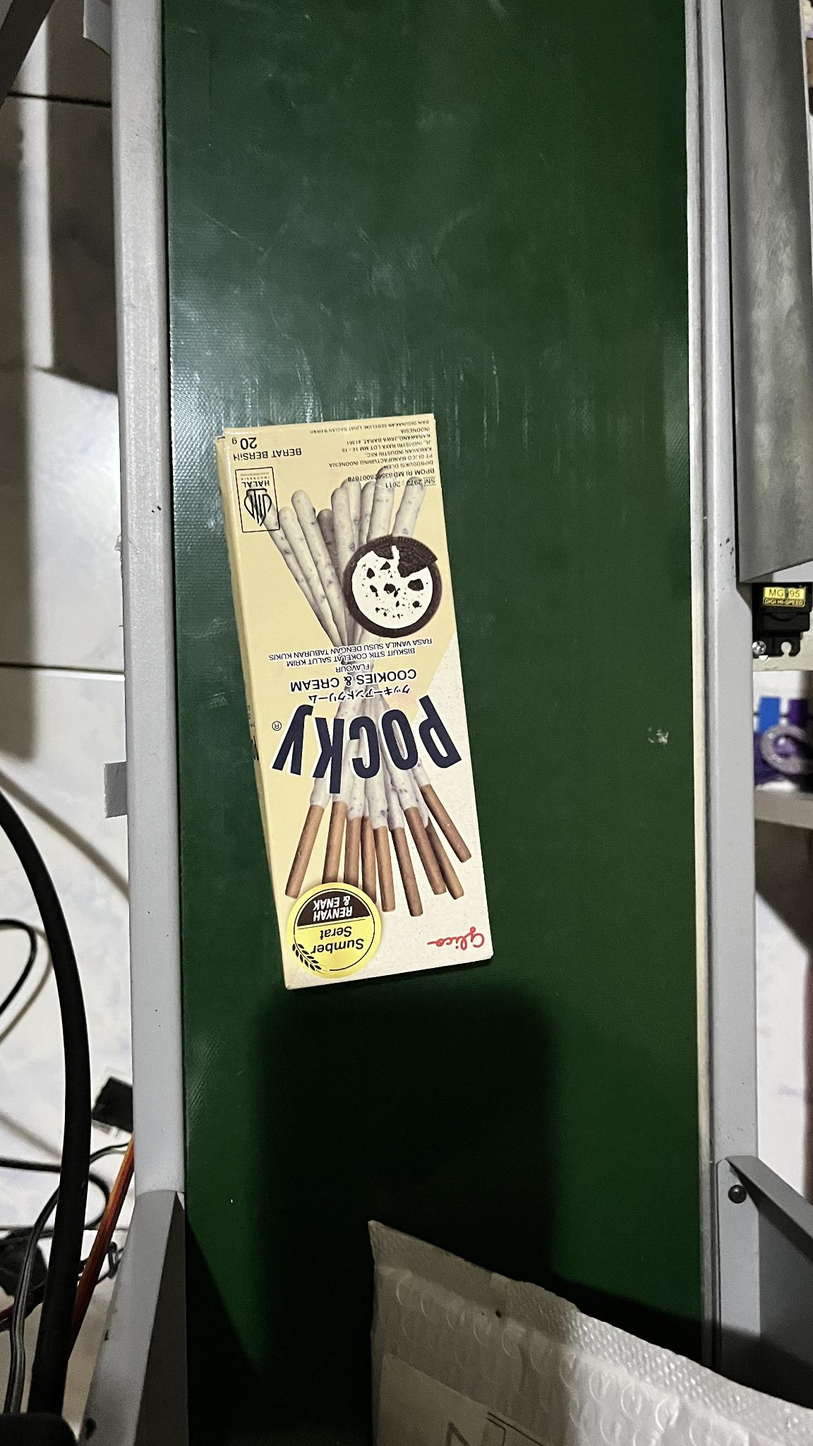Kertas: (226, 430, 495, 997)
